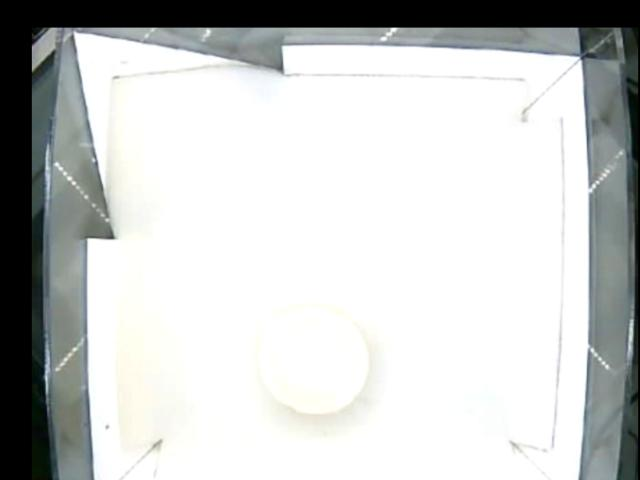Mooli: (259, 307, 370, 410)
